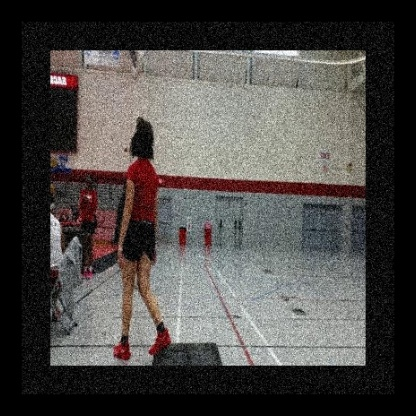lateral_flexion_right: (113, 110, 174, 366)
stance_width_broad: (113, 152, 174, 365)
